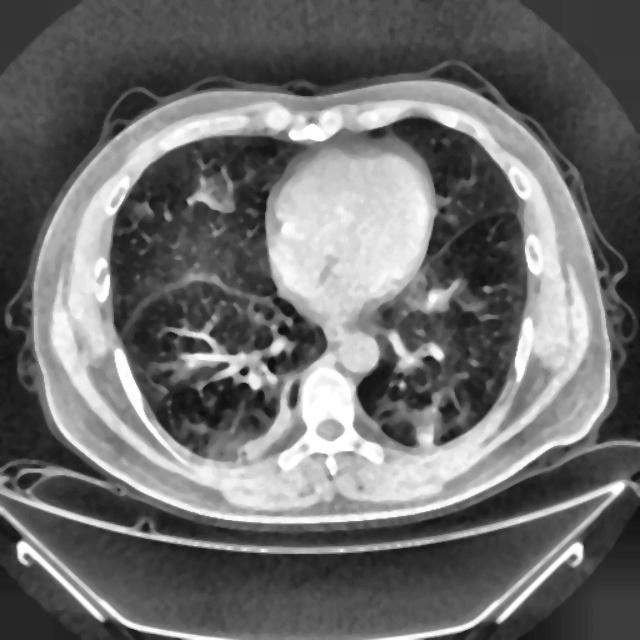covid: (17, 71, 627, 531)
